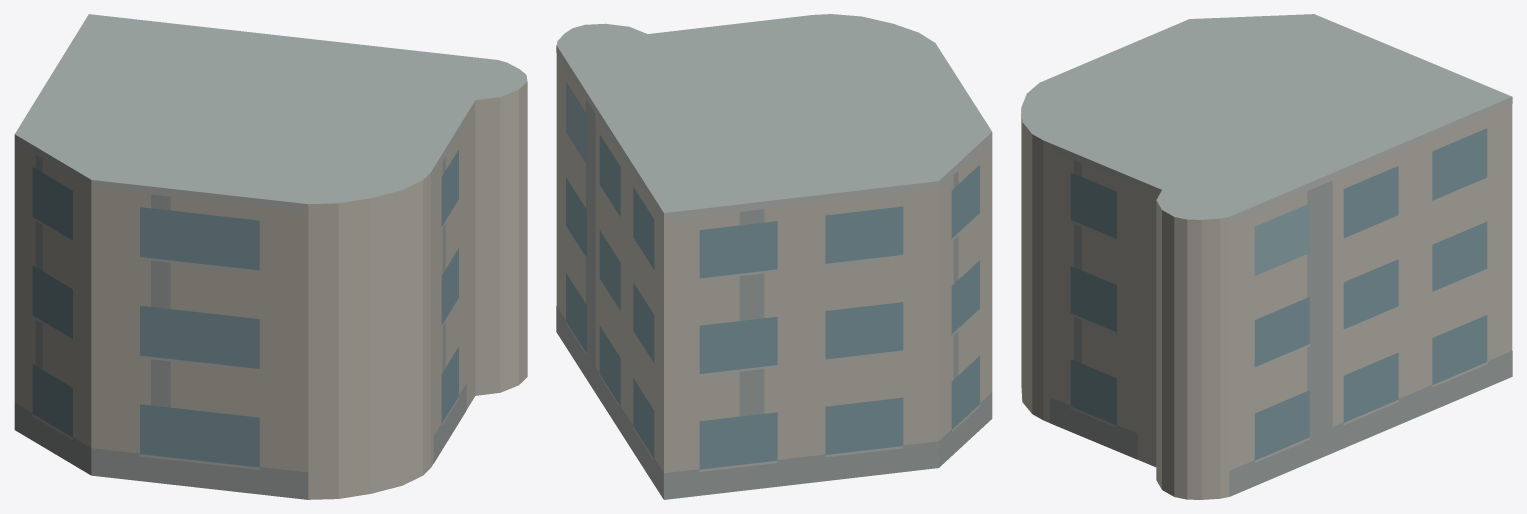
File: survey-upis-32832052.glb
3 views of the same model, side by side, from view 1: azimuth 30°, elevation 25°; view 2: azimuth 150°, elevation 25°; view 3: azimuth 270°, elevation 25° (orthographic). The views are drawn at different scales.
Parts seen in each view (by area): view 1: survey-upis-32832052.tmp; view 2: survey-upis-32832052.tmp; view 3: survey-upis-32832052.tmp.
Part boxes in pixels (x1,y1,x2,y2): survey-upis-32832052.tmp: (14,14,527,499); survey-upis-32832052.tmp: (556,14,992,499); survey-upis-32832052.tmp: (1021,14,1512,499).
Bounding box in the file's own units: 14.43 × 9.15 × 14.54.
